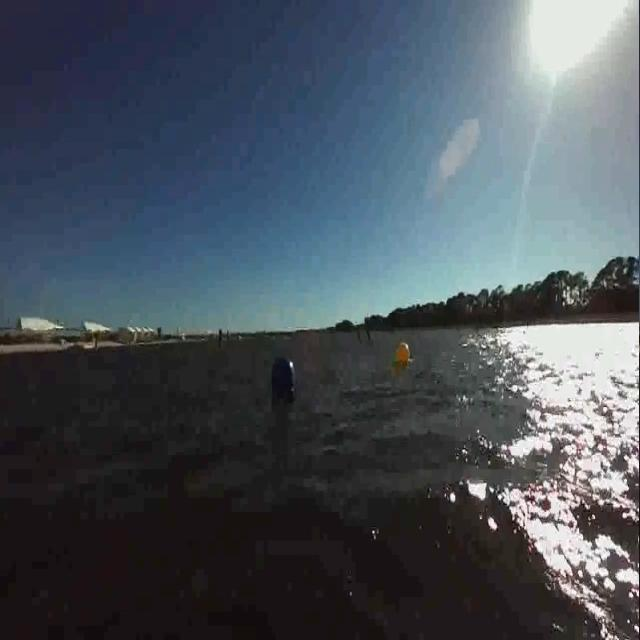blue-buoy: (270, 354, 298, 400)
yellow-buoy: (397, 342, 412, 366)
